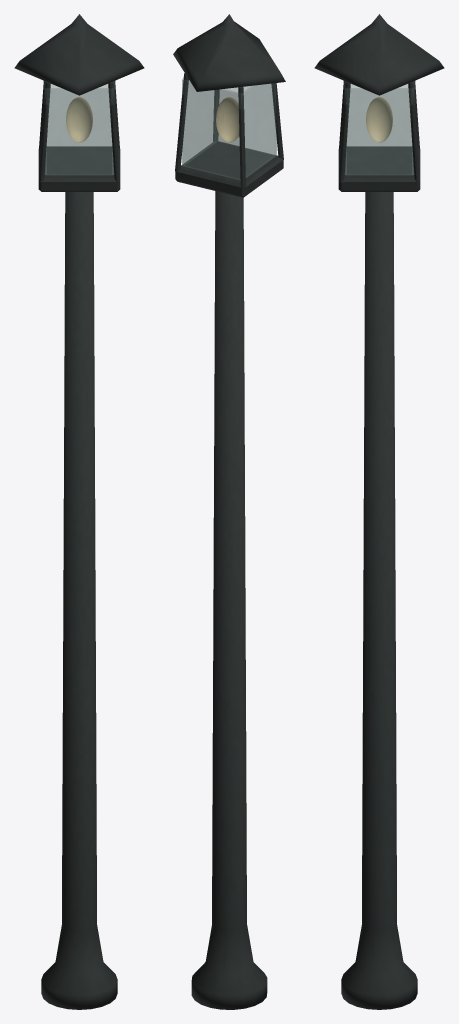
File: street_lamp.glb
The picture shows the model from 3 angles, left to right: view 1: azimuth 90°, elevation 25°; view 2: azimuth 150°, elevation 25°; view 3: azimuth 270°, elevation 25°; orthographic projection.
Visible parts, largest first — view 1: Lamp_geometry; view 2: Lamp_geometry; view 3: Lamp_geometry.
Part boxes in pixels (left/top/right/bottom): Lamp_geometry: left=14, top=14, right=144, bottom=1009; Lamp_geometry: left=173, top=14, right=285, bottom=1009; Lamp_geometry: left=314, top=14, right=444, bottom=1009.
Size of the model in its own units: 0.48 by 3.98 by 0.48.
Materials: 3 (3 with a texture image).
